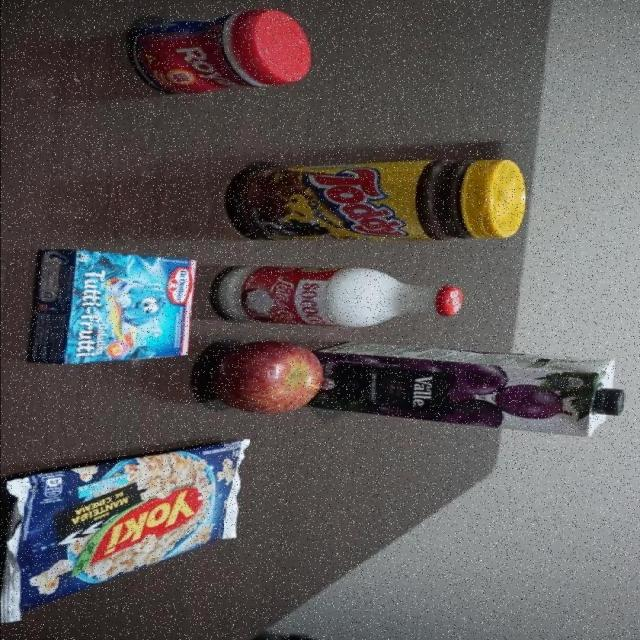Apple: (202, 341, 321, 415)
ChocolatePowder: (220, 158, 526, 246)
CoconutMilk: (207, 264, 463, 328)
Gelatine: (28, 248, 198, 366)
Popcorn: (0, 436, 256, 625)
Yeast: (125, 8, 313, 98)
